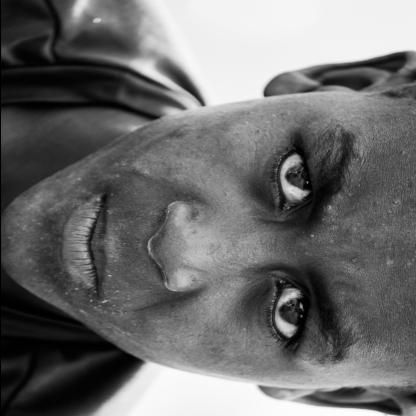Eye: (262, 132, 323, 218), (263, 276, 312, 360)
Mouth: (62, 189, 114, 306)
Nose: (142, 198, 276, 292)
